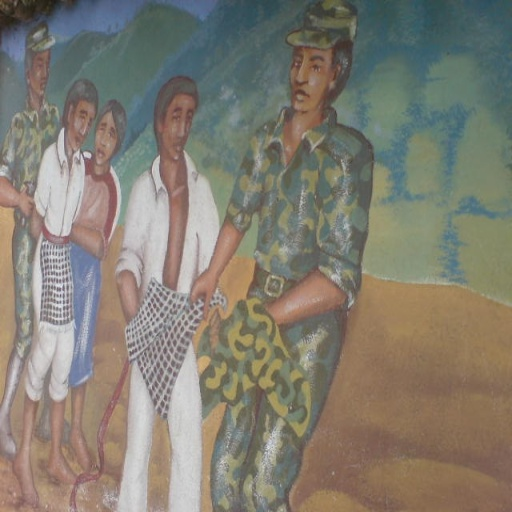hand: (190, 265, 217, 320), (206, 313, 224, 358), (16, 184, 35, 217)
